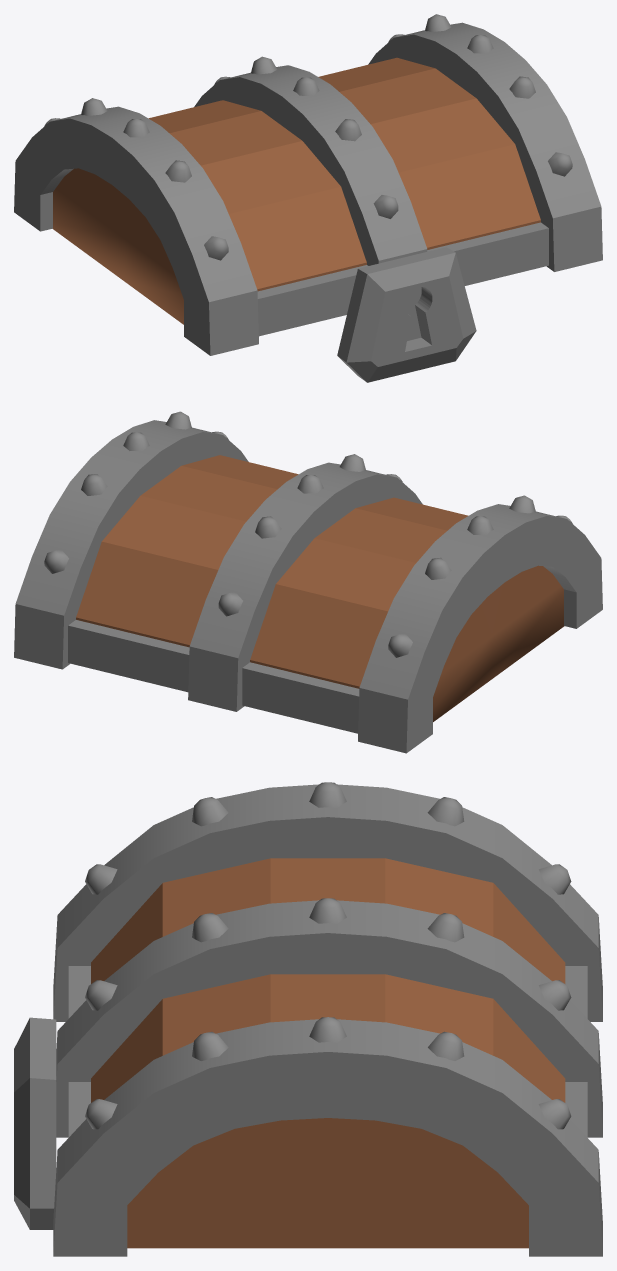
The model's file is Box_Top.glb.
3 views of the same model, one above another, from view 1: azimuth 30°, elevation 25°; view 2: azimuth 150°, elevation 25°; view 3: azimuth 270°, elevation 25° (orthographic). The views are drawn at different scales.
Visible parts, largest first — view 1: Box_Top; view 2: Box_Top; view 3: Box_Top.
Part boxes in pixels (box(x1,y1,x2,y2)): Box_Top: box(14, 14, 602, 382); Box_Top: box(14, 411, 602, 753); Box_Top: box(14, 782, 602, 1256).
Size of the model in its own units: 2.15 by 1.13 by 2.
